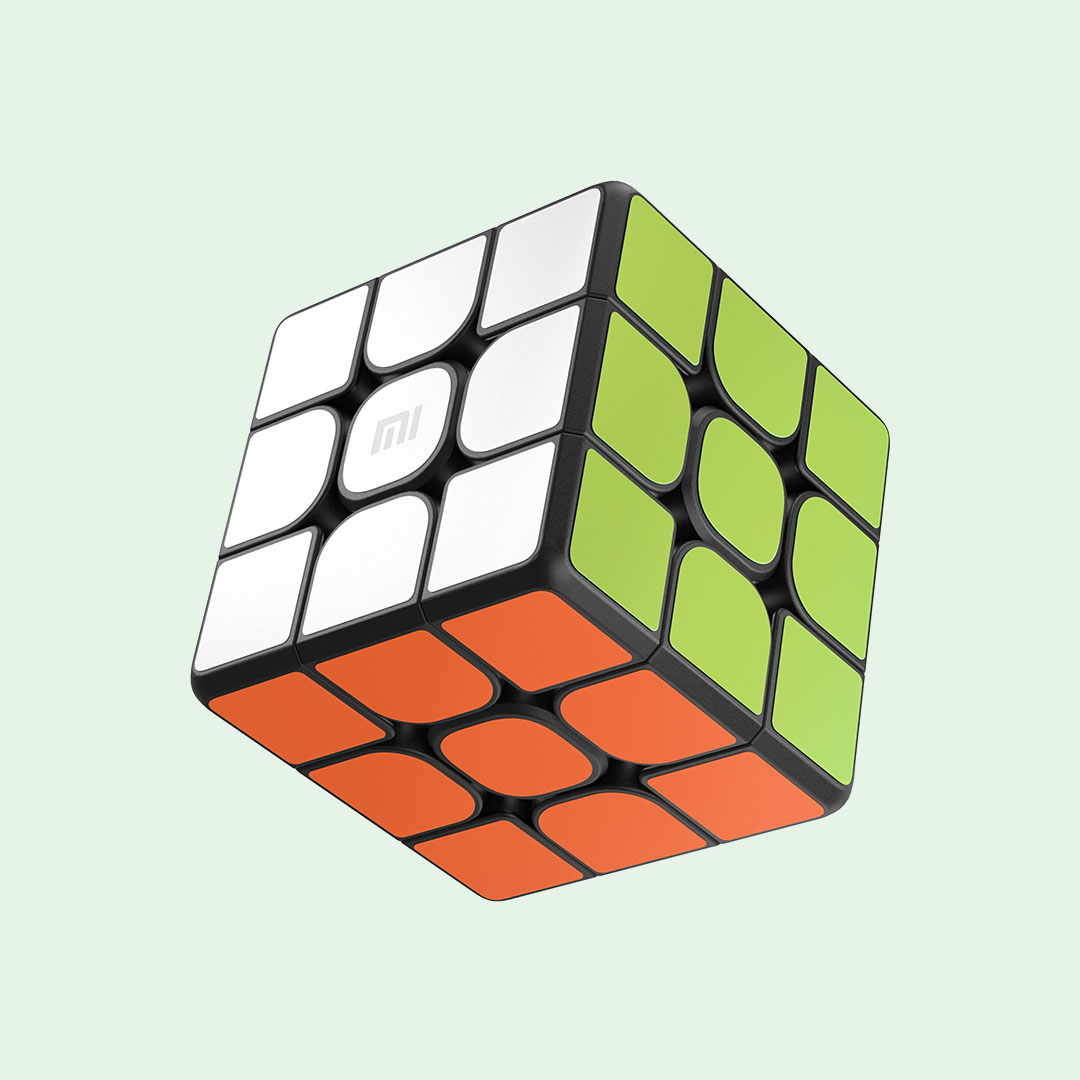cube: (199, 169, 906, 932)
